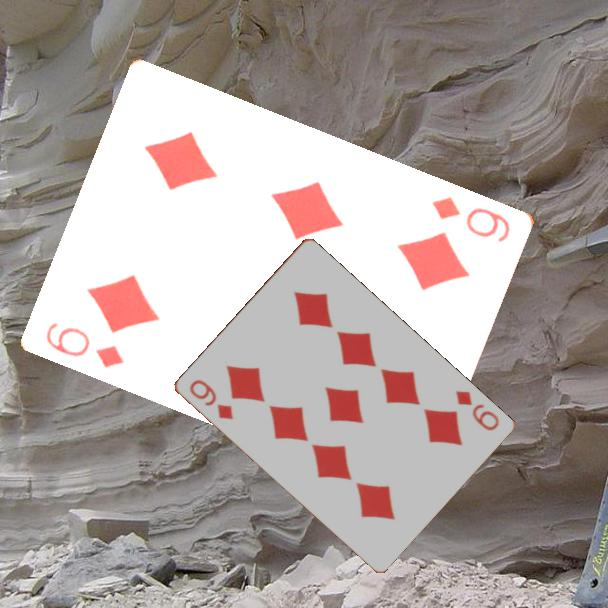d06: (429, 192, 514, 246), (43, 319, 127, 371)
d09: (185, 376, 236, 423), (452, 387, 502, 434)
